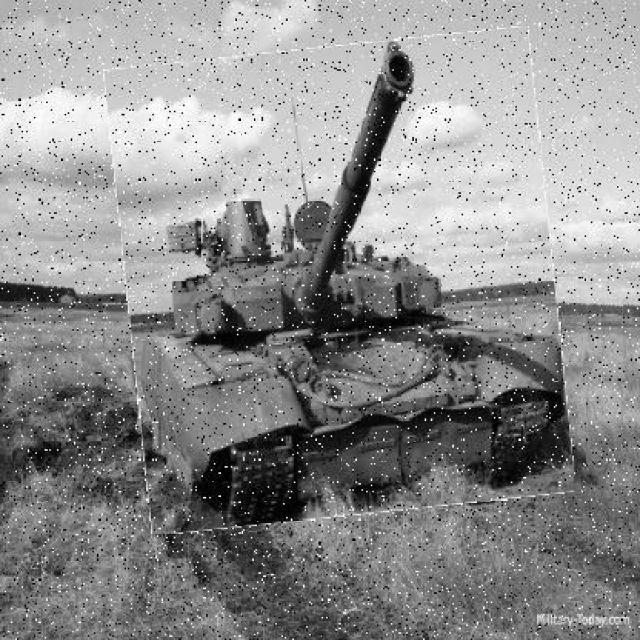Tank: (117, 38, 566, 527)
